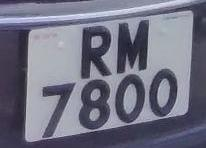0: (146, 66, 183, 123), (113, 70, 149, 127)
7: (37, 77, 79, 141)
8: (72, 73, 115, 132)
M: (111, 16, 155, 76)
R: (73, 18, 117, 82)
